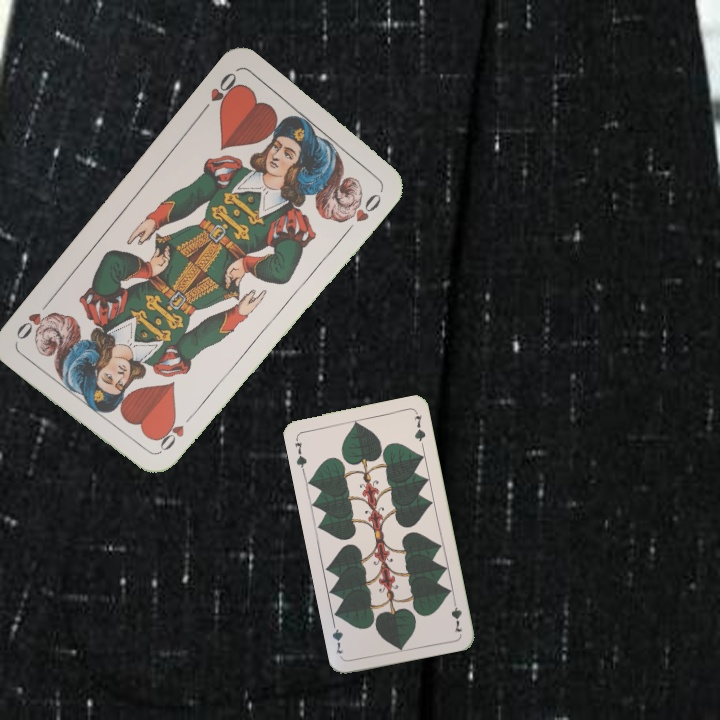G7: (447, 594, 465, 635), (291, 433, 309, 474)
HO: (196, 68, 242, 117), (154, 408, 198, 457)
